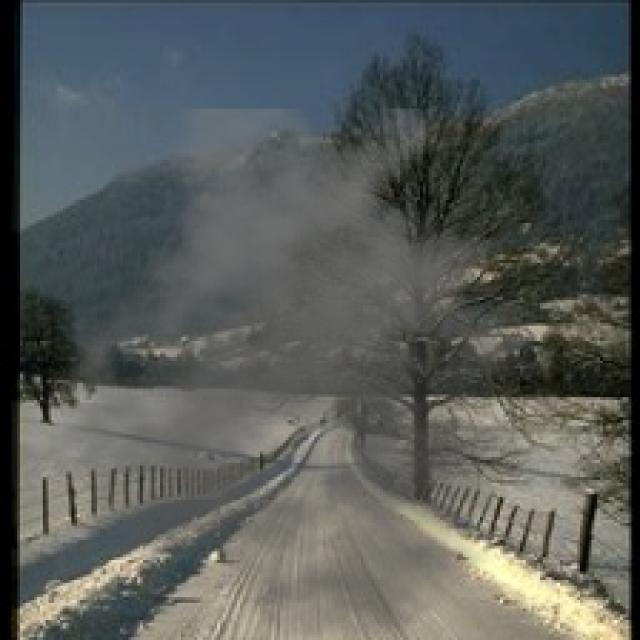smoke: (37, 109, 592, 637)
